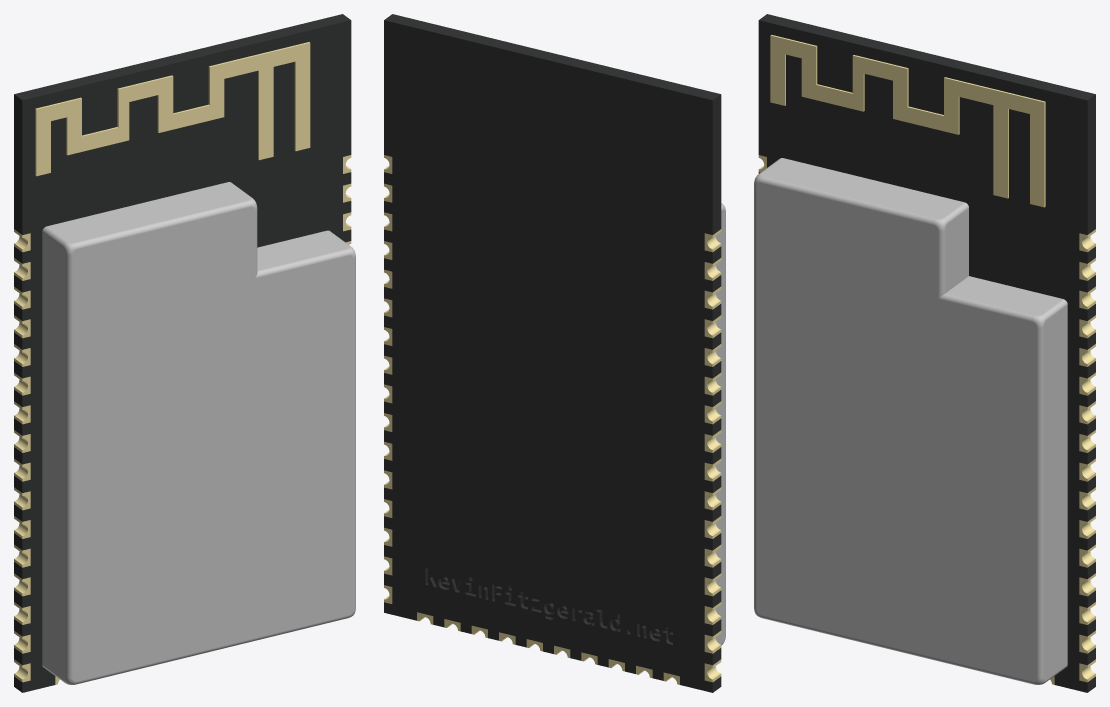
The model's file is ESP32-S2-WROVER.fbx.
3 renders of one model, left to right at view 1: azimuth 30°, elevation 25°; view 2: azimuth 150°, elevation 25°; view 3: azimuth 330°, elevation 25°, orthographic.
Visible parts, largest first — view 1: Body1 (×3); view 2: Body1 (×2); view 3: Body1 (×3).
Part boxes in pixels (x1,y1,x2,y2): Body1 (×3): (14, 14, 355, 692); Body1 (×2): (384, 14, 725, 692); Body1 (×3): (754, 14, 1095, 692).
Size of the model in its own units: 18 by 31 by 3.3.
